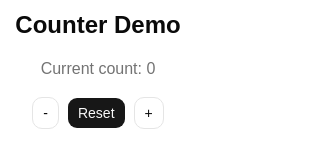
Test: Counter › decrements count when - button is clicked
Click the button named "Decrement" at (46, 113), box [32,97,59,129]
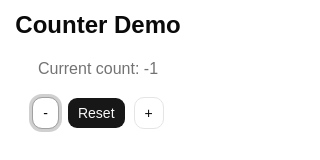
Check: the text with test id "count" reads "-1", box [144,60,158,77]
